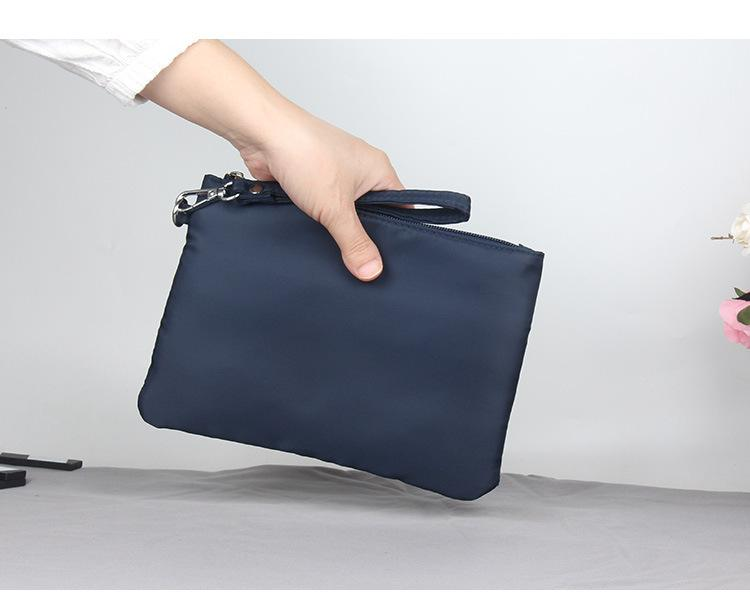no-phone: (213, 77, 547, 498)
